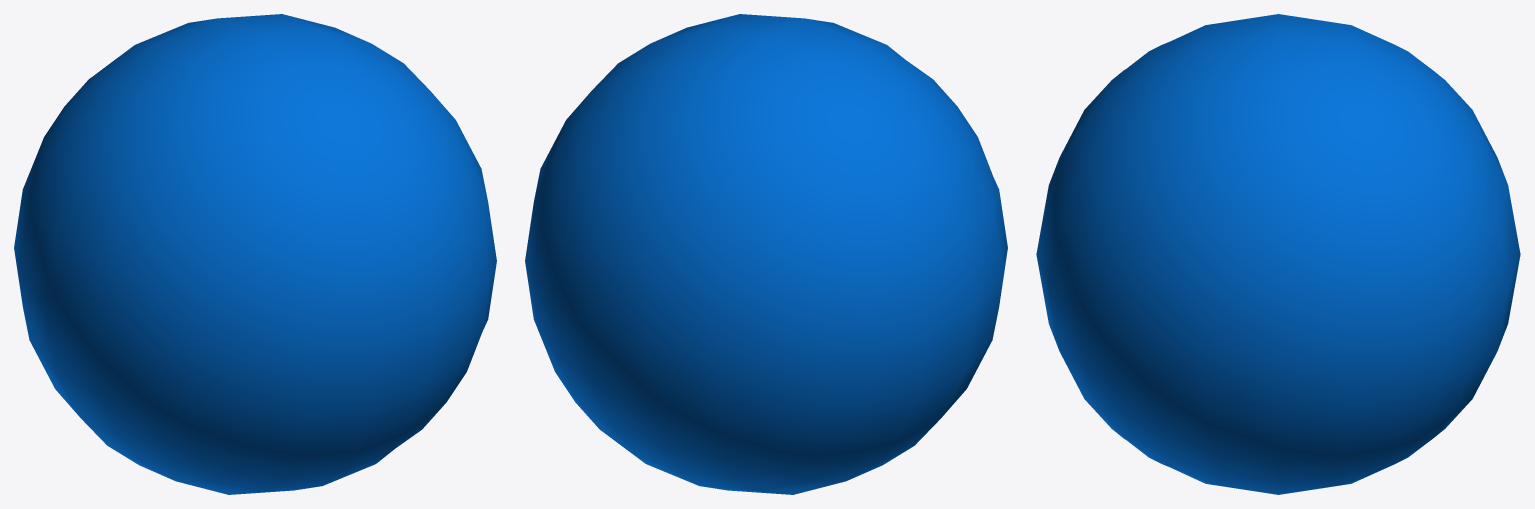
File: ProtectZone.obj
3 renders of one model, left to right at view 1: azimuth 30°, elevation 25°; view 2: azimuth 150°, elevation 25°; view 3: azimuth 270°, elevation 25°, orthographic.
Visible parts, largest first — view 1: Protectzone1; view 2: Protectzone1; view 3: Protectzone1.
Boxes of the visible parts, bbox=[...] form: Protectzone1: bbox=[14, 14, 496, 494]; Protectzone1: bbox=[525, 14, 1007, 494]; Protectzone1: bbox=[1036, 14, 1520, 494].
Size of the model in its own units: 33 by 33 by 33.
